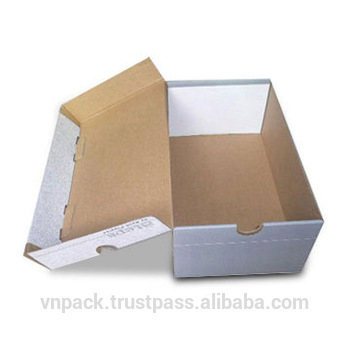Rec_Paper: (22, 60, 327, 285)
